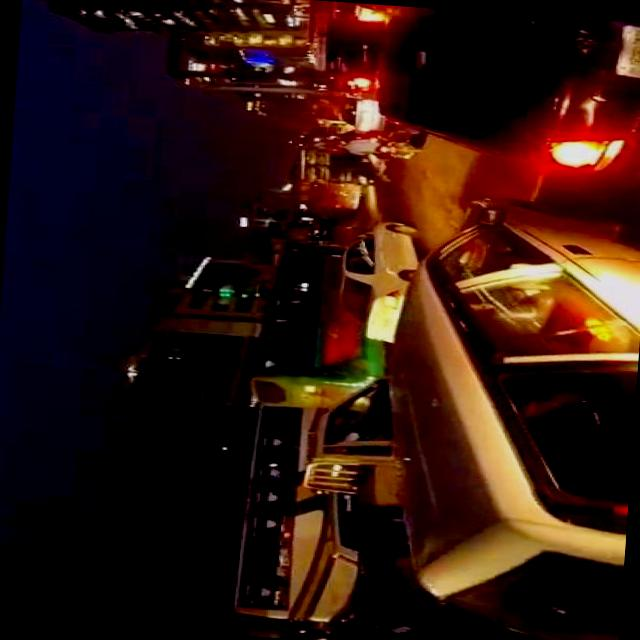bus: (228, 400, 369, 623), (245, 234, 391, 410), (289, 178, 362, 208)
car: (368, 183, 640, 640), (369, 3, 640, 176), (332, 214, 422, 342), (336, 72, 378, 132)
truck: (292, 367, 456, 636), (292, 140, 379, 188)
